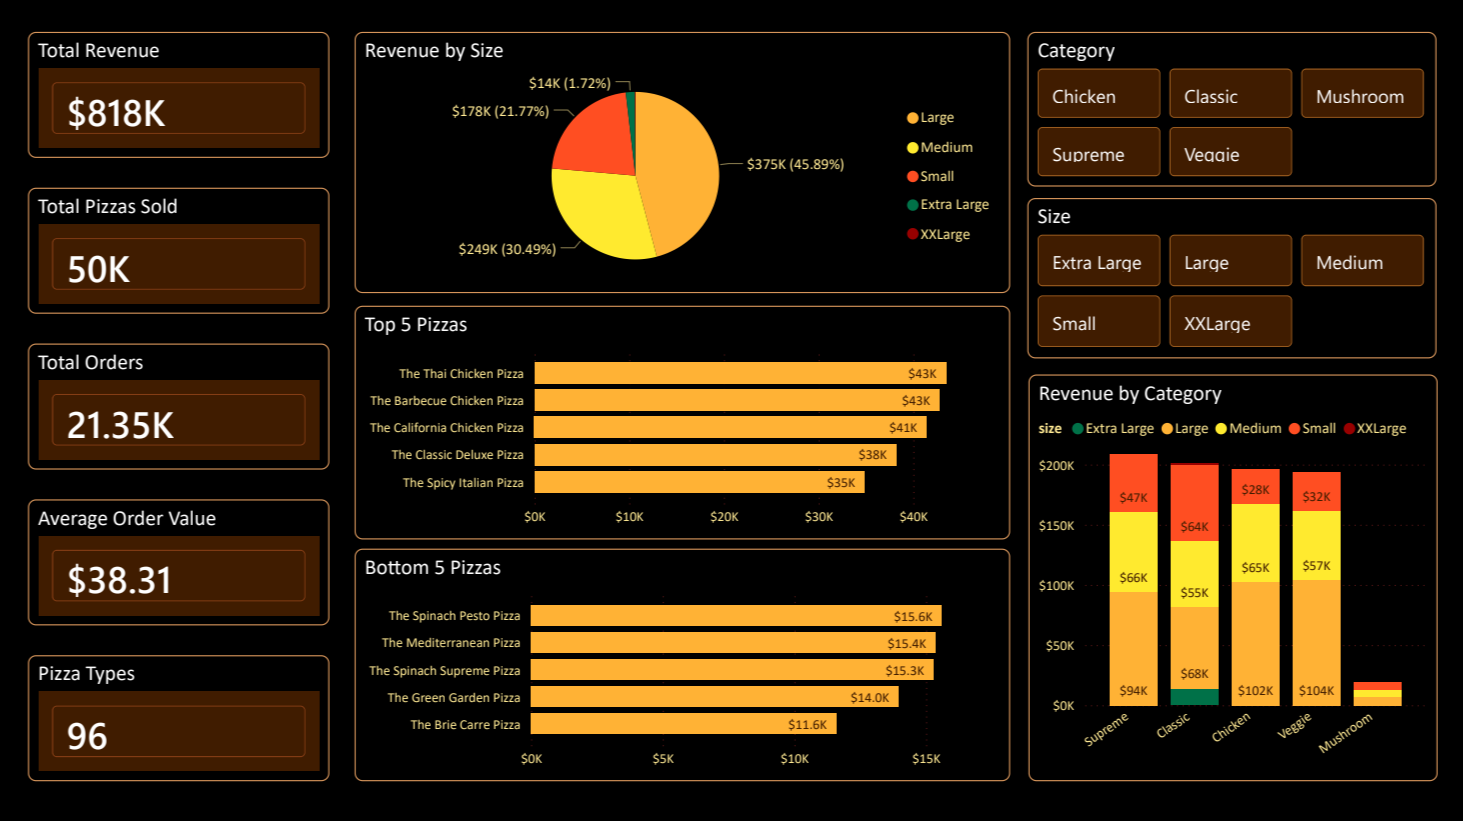

Layout of this report page (visuals, bound fields, positions):
{"tool":"powerbi","page":{"name":"Page 1","canvas":[1280,720],"ordinal":0},"visuals":[{"type":"cardVisual","title":"Total Revenue","fields":{"Data":["Sum(gold fact_sales.sales)"]},"box":[25.7,30,262.9,110],"z":0},{"type":"cardVisual","title":"Total Pizzas Sold","fields":{"Data":["Sum(gold fact_sales.quantity)"]},"box":[25.7,166.1,262.9,110],"z":1000},{"type":"cardVisual","title":"Total Orders","fields":{"Data":["Count(gold fact_sales.order_id)"]},"box":[25.7,302.1,262.9,110],"z":2000},{"type":"cardVisual","title":"Average Order Value","fields":{"Data":["gold dim_pizzas.Average Order Value"]},"box":[25.7,438.2,262.9,110],"z":3000},{"type":"columnChart","title":"Revenue by Category","fields":{"Category":["gold dim_pizzas.category"],"Y":["Sum(gold fact_sales.sales)"],"Series":["gold dim_pizzas.size"]},"box":[898.6,328.6,357.1,355.7],"z":4000},{"type":"pieChart","title":"Revenue by Size","fields":{"Category":["gold dim_pizzas.size"],"Y":["Sum(gold fact_sales.sales)"]},"box":[311,29.7,571.6,228.4],"z":5000},{"type":"barChart","title":"Top 5 Pizzas","fields":{"Category":["gold dim_pizzas.name"],"Y":["Sum(gold fact_sales.sales)"]},"box":[311,269,572,204],"z":6000},{"type":"barChart","title":"Bottom 5 Pizzas","fields":{"Category":["gold dim_pizzas.name"],"Y":["Sum(gold fact_sales.sales)"]},"box":[311.4,481.4,571.4,202.9],"z":7000},{"type":"advancedSlicerVisual","title":"Category","fields":{"Values":["gold dim_pizzas.category"]},"box":[898.1,29.7,357.4,135.5],"z":8000},{"type":"advancedSlicerVisual","title":"Size","fields":{"Values":["gold dim_pizzas.size"]},"box":[898.1,175.5,357.4,139.4],"z":9000},{"type":"cardVisual","title":"Pizza Types","fields":{"Data":["gold dim_pizzas.Pizza_types_total"]},"box":[25.7,574.3,262.9,110],"z":10000}]}

Visuals, with their boxes in screenshot pixels (x1, y1, x2, y2), scaled from the page's 1280x720 canvas onto the 1463x821 screenshot:
"Total Revenue" cardVisual: {"left": 29, "top": 34, "right": 330, "bottom": 160}
"Total Pizzas Sold" cardVisual: {"left": 29, "top": 189, "right": 330, "bottom": 315}
"Total Orders" cardVisual: {"left": 29, "top": 344, "right": 330, "bottom": 470}
"Average Order Value" cardVisual: {"left": 29, "top": 500, "right": 330, "bottom": 625}
"Revenue by Category" columnChart: {"left": 1027, "top": 375, "right": 1435, "bottom": 780}
"Revenue by Size" pieChart: {"left": 355, "top": 34, "right": 1009, "bottom": 294}
"Top 5 Pizzas" barChart: {"left": 355, "top": 307, "right": 1009, "bottom": 539}
"Bottom 5 Pizzas" barChart: {"left": 356, "top": 549, "right": 1009, "bottom": 780}
"Category" advancedSlicerVisual: {"left": 1027, "top": 34, "right": 1435, "bottom": 188}
"Size" advancedSlicerVisual: {"left": 1027, "top": 200, "right": 1435, "bottom": 359}
"Pizza Types" cardVisual: {"left": 29, "top": 655, "right": 330, "bottom": 780}
